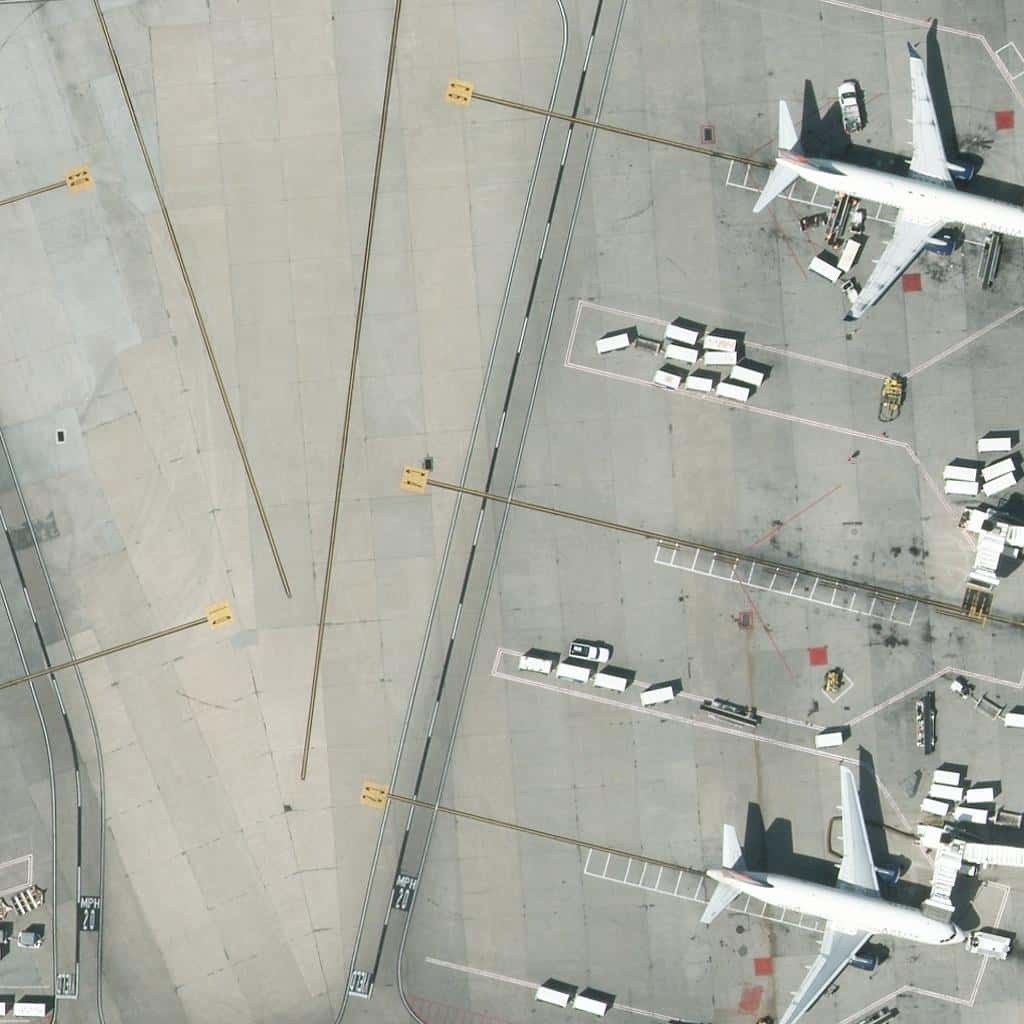plane: (759, 47, 1020, 334), (693, 758, 970, 1021)
